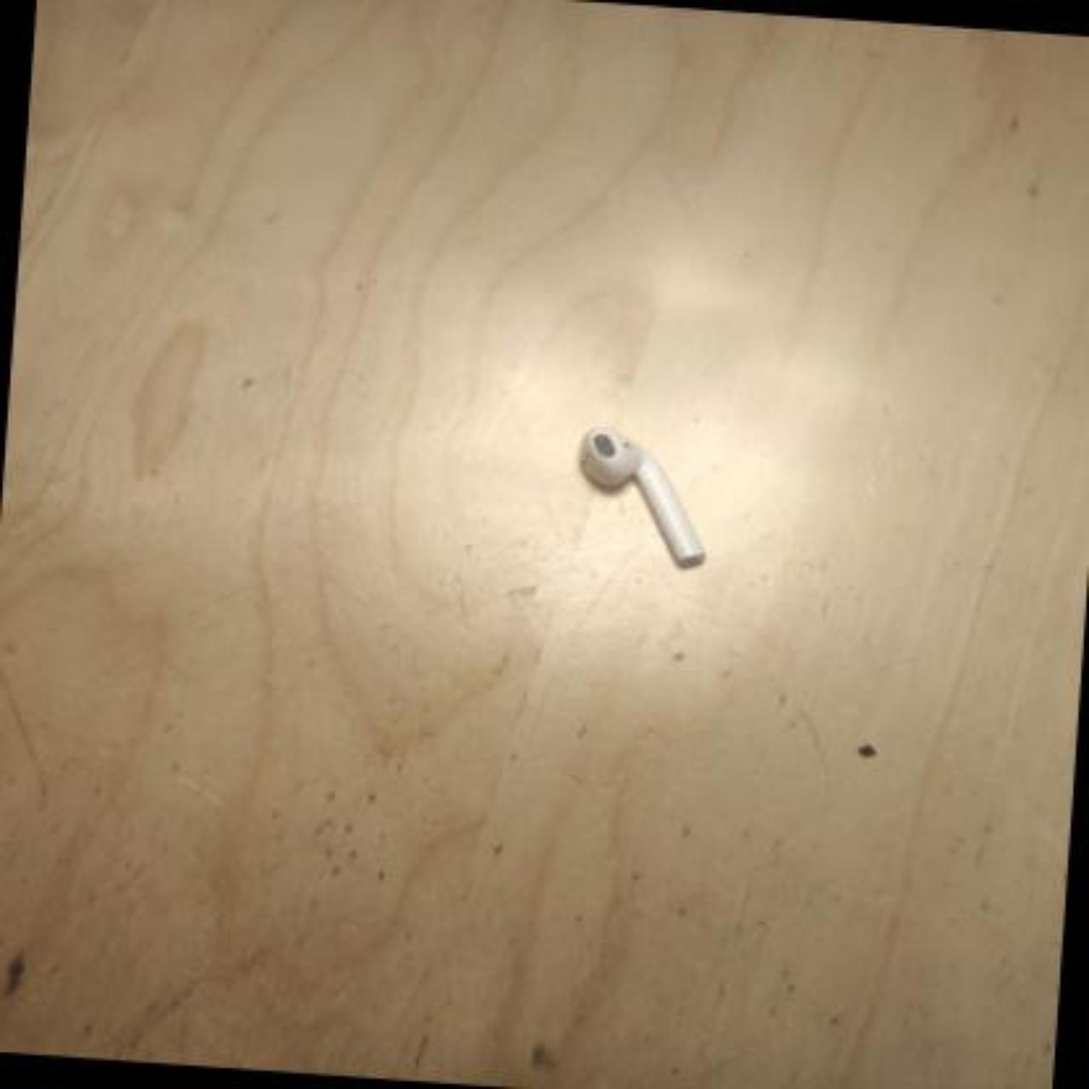Airpods_Units: (584, 428, 704, 569)
